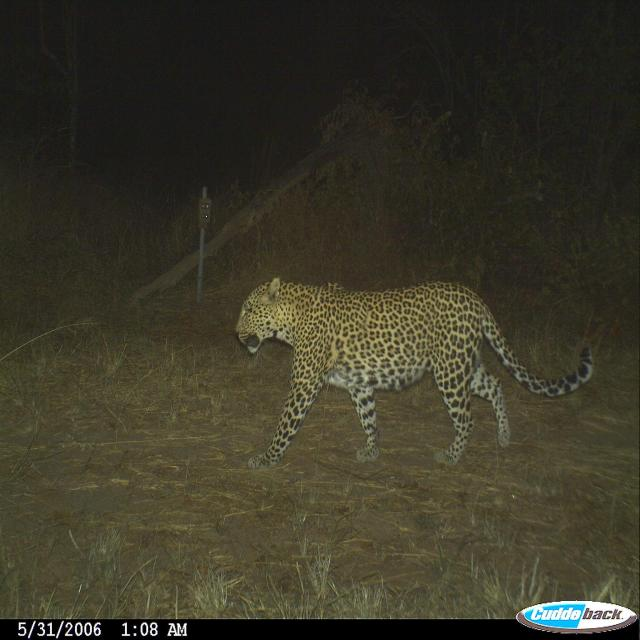Leopard: (231, 271, 594, 476)
